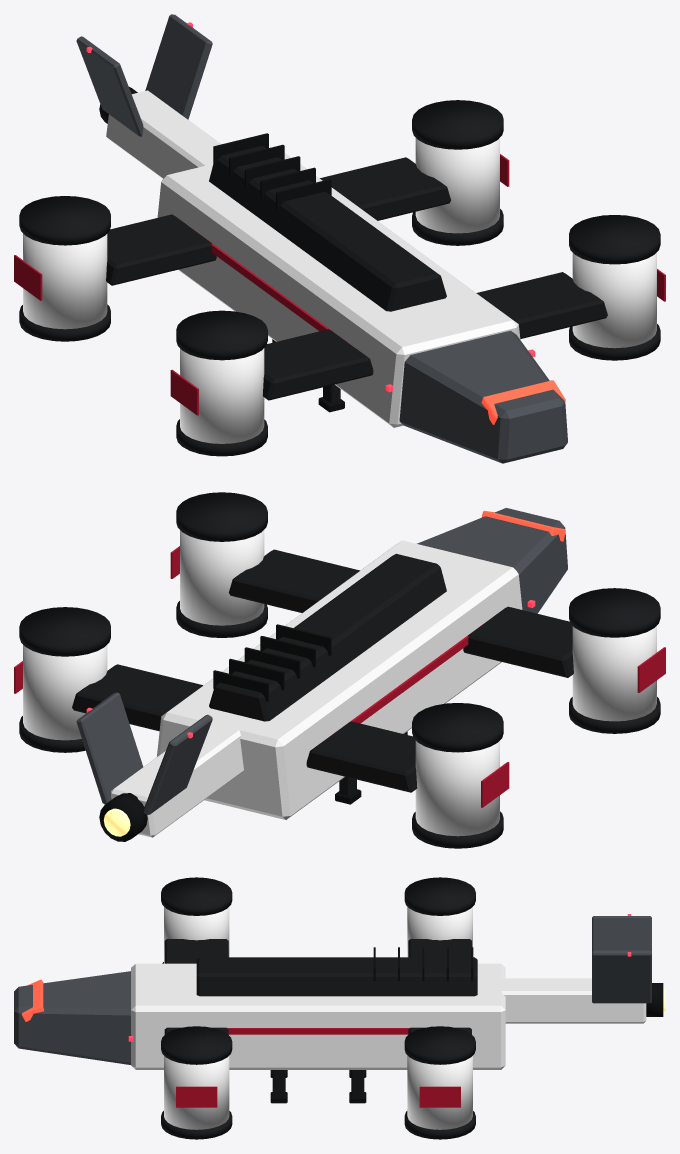
File: dropship.glb
3 views of the same model, one above another, from view 1: azimuth 30°, elevation 25°; view 2: azimuth 150°, elevation 25°; view 3: azimuth 270°, elevation 25° (orthographic). The views are drawn at different scales.
Parts seen in each view (by area): view 1: ship_mesh, engine_FL_mesh, engine_RL_mesh, engine_RR_mesh, engine_FR_mesh; view 2: ship_mesh, engine_RL_mesh, engine_FL_mesh, engine_FR_mesh, engine_RR_mesh, clamp_mesh; view 3: ship_mesh, engine_RR_mesh, engine_FR_mesh, engine_FL_mesh, engine_RL_mesh, clamp_mesh.
Part boxes in pixels (x1=…): ship_mesh: x1=76, y1=14, x2=607, y2=463; engine_FL_mesh: x1=170, y1=310, x2=267, y2=456; engine_RL_mesh: x1=14, y1=196, x2=110, y2=341; engine_RR_mesh: x1=412, y1=100, x2=509, y2=245; engine_FR_mesh: x1=569, y1=215, x2=665, y2=360; ship_mesh: x1=72, y1=508, x2=573, y2=841; engine_RL_mesh: x1=412, y1=703, x2=509, y2=848; engine_FL_mesh: x1=569, y1=588, x2=665, y2=733; engine_FR_mesh: x1=170, y1=492, x2=267, y2=637; engine_RR_mesh: x1=14, y1=607, x2=110, y2=752; clamp_mesh: x1=335, y1=731, x2=407, y2=804; ship_mesh: x1=14, y1=914, x2=665, y2=1069; engine_RR_mesh: x1=404, y1=1026, x2=475, y2=1139; engine_FR_mesh: x1=161, y1=1026, x2=232, y2=1139; engine_FL_mesh: x1=161, y1=877, x2=232, y2=963; engine_RL_mesh: x1=404, y1=877, x2=475, y2=957; clamp_mesh: x1=270, y1=1070, x2=366, y2=1103.
Bounding box in the file's own units: 22.6 × 9.09 × 34.8.
